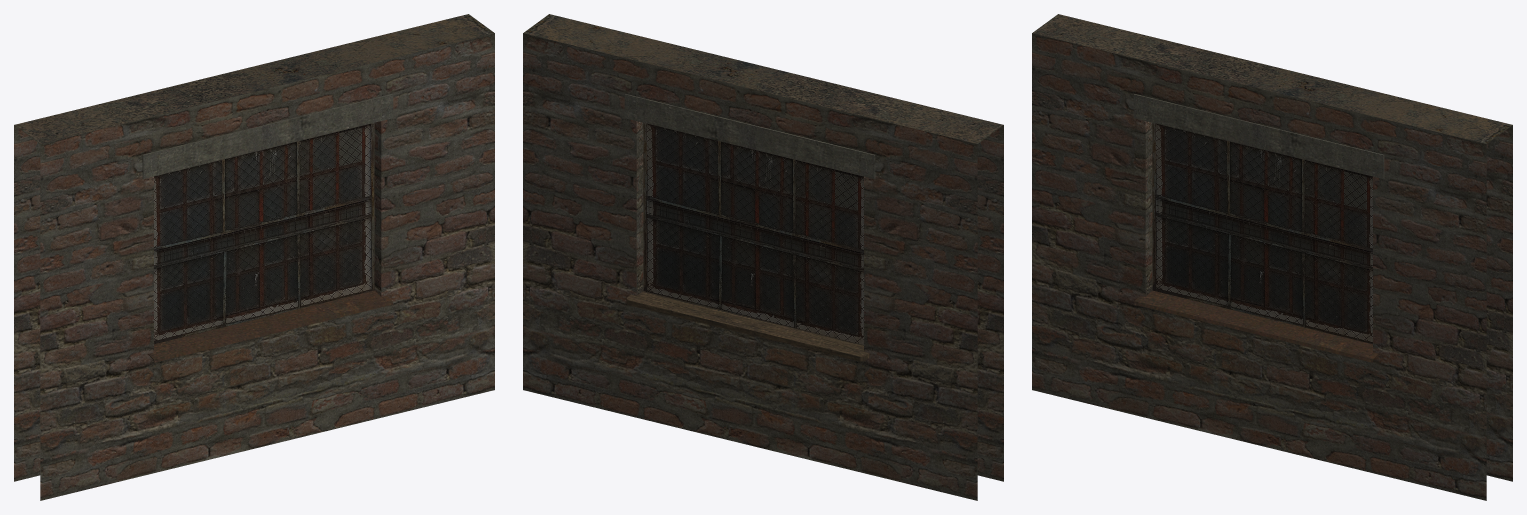
The model's file is window_hr_2.dae.
The picture shows the model from 3 angles, left to right: view 1: azimuth 30°, elevation 25°; view 2: azimuth 150°, elevation 25°; view 3: azimuth 330°, elevation 25°; orthographic projection.
Parts seen in each view (by area): view 1: window_hr_2; view 2: window_hr_2; view 3: window_hr_2.
Part boxes in pixels (<box>): window_hr_2: <box>14,14,494,500</box>; window_hr_2: <box>523,14,1003,500</box>; window_hr_2: <box>1032,14,1512,500</box>.
Bounding box in the file's own units: 4 × 0.595 × 3.
6 materials, 6 textured.
